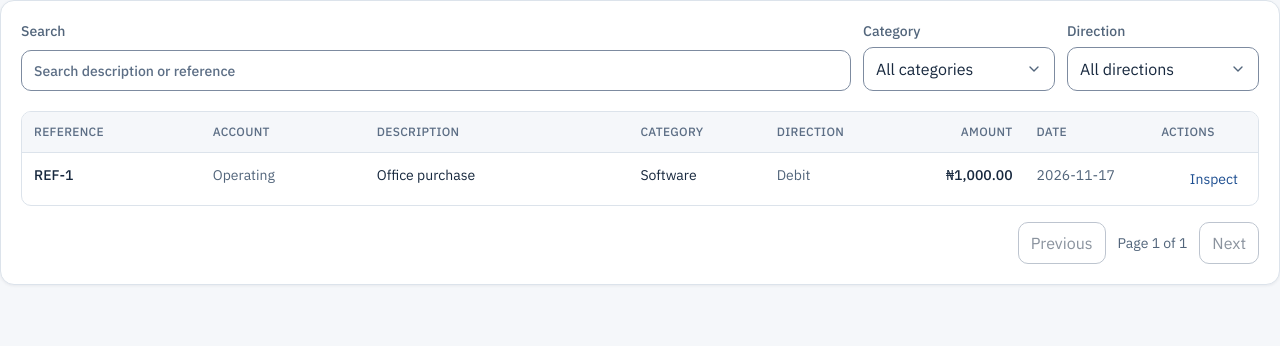
Test case: transaction category dropdown › searches categories and returns the selected value
The width and height of the screenshot is (1280, 346).
Later steps or results of the test are not shown.
Click the dropdown named "Category" at (959, 69), box left=863, top=47, right=1055, bottom=91
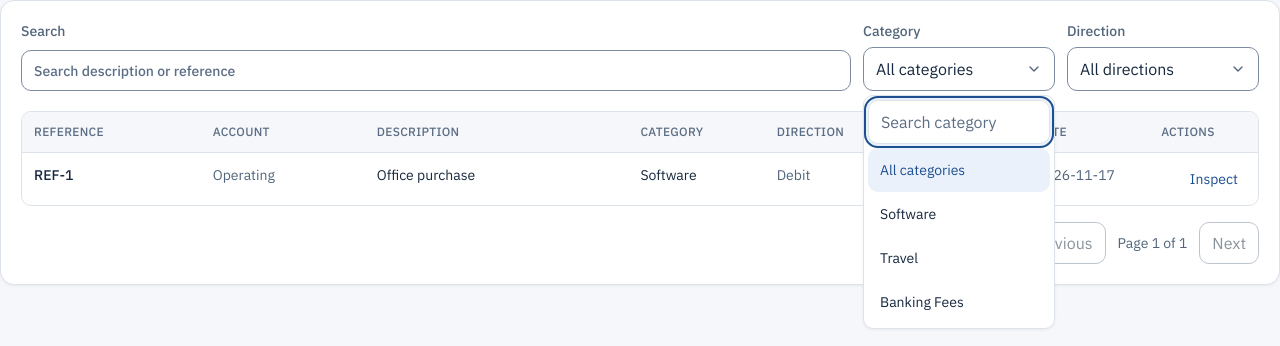
Type "not a category" into the search field named "Search Category options" at (959, 122), box left=868, top=100, right=1050, bottom=144
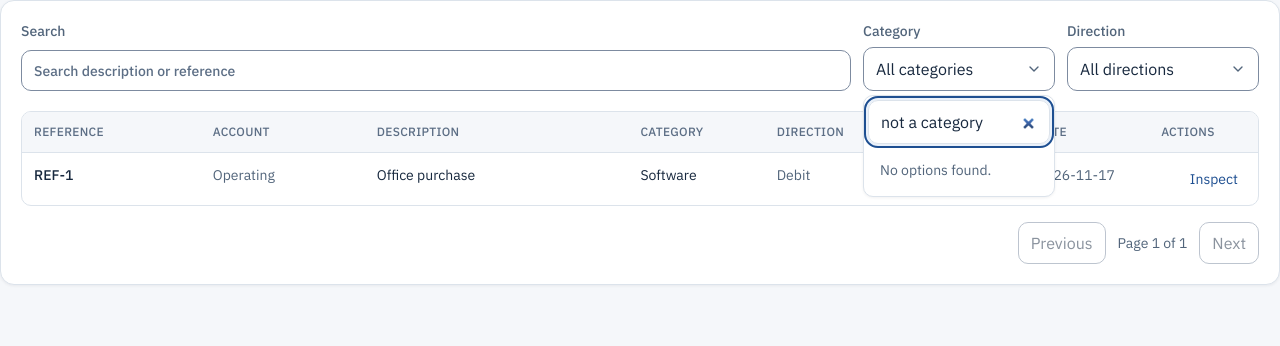
Expected: the dropdown named "Category" reads "All categories", left=863, top=47, right=1055, bottom=91
Expected: the text "No options found." is shown, left=880, top=161, right=991, bottom=179
Replace the text in the search field named "Search Category options" with "travel" at (959, 122), box left=868, top=100, right=1050, bottom=144
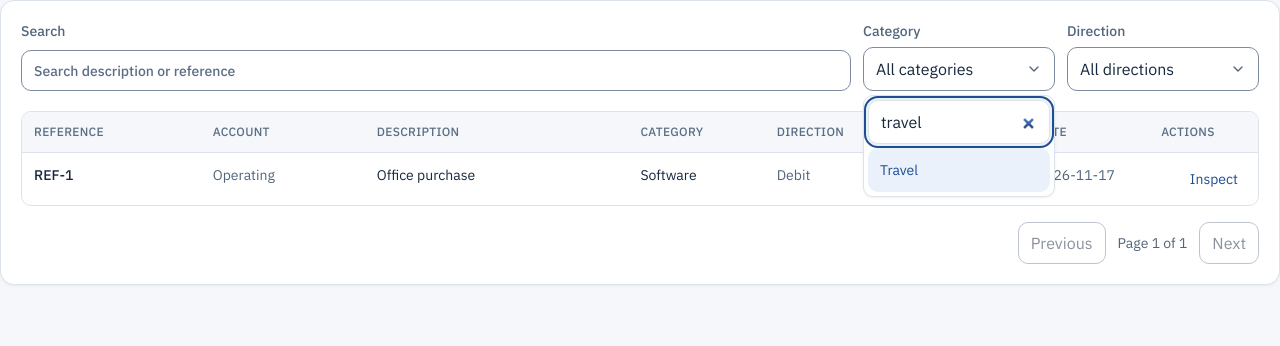
Expected: the option "Travel" is shown, left=868, top=148, right=1050, bottom=192
